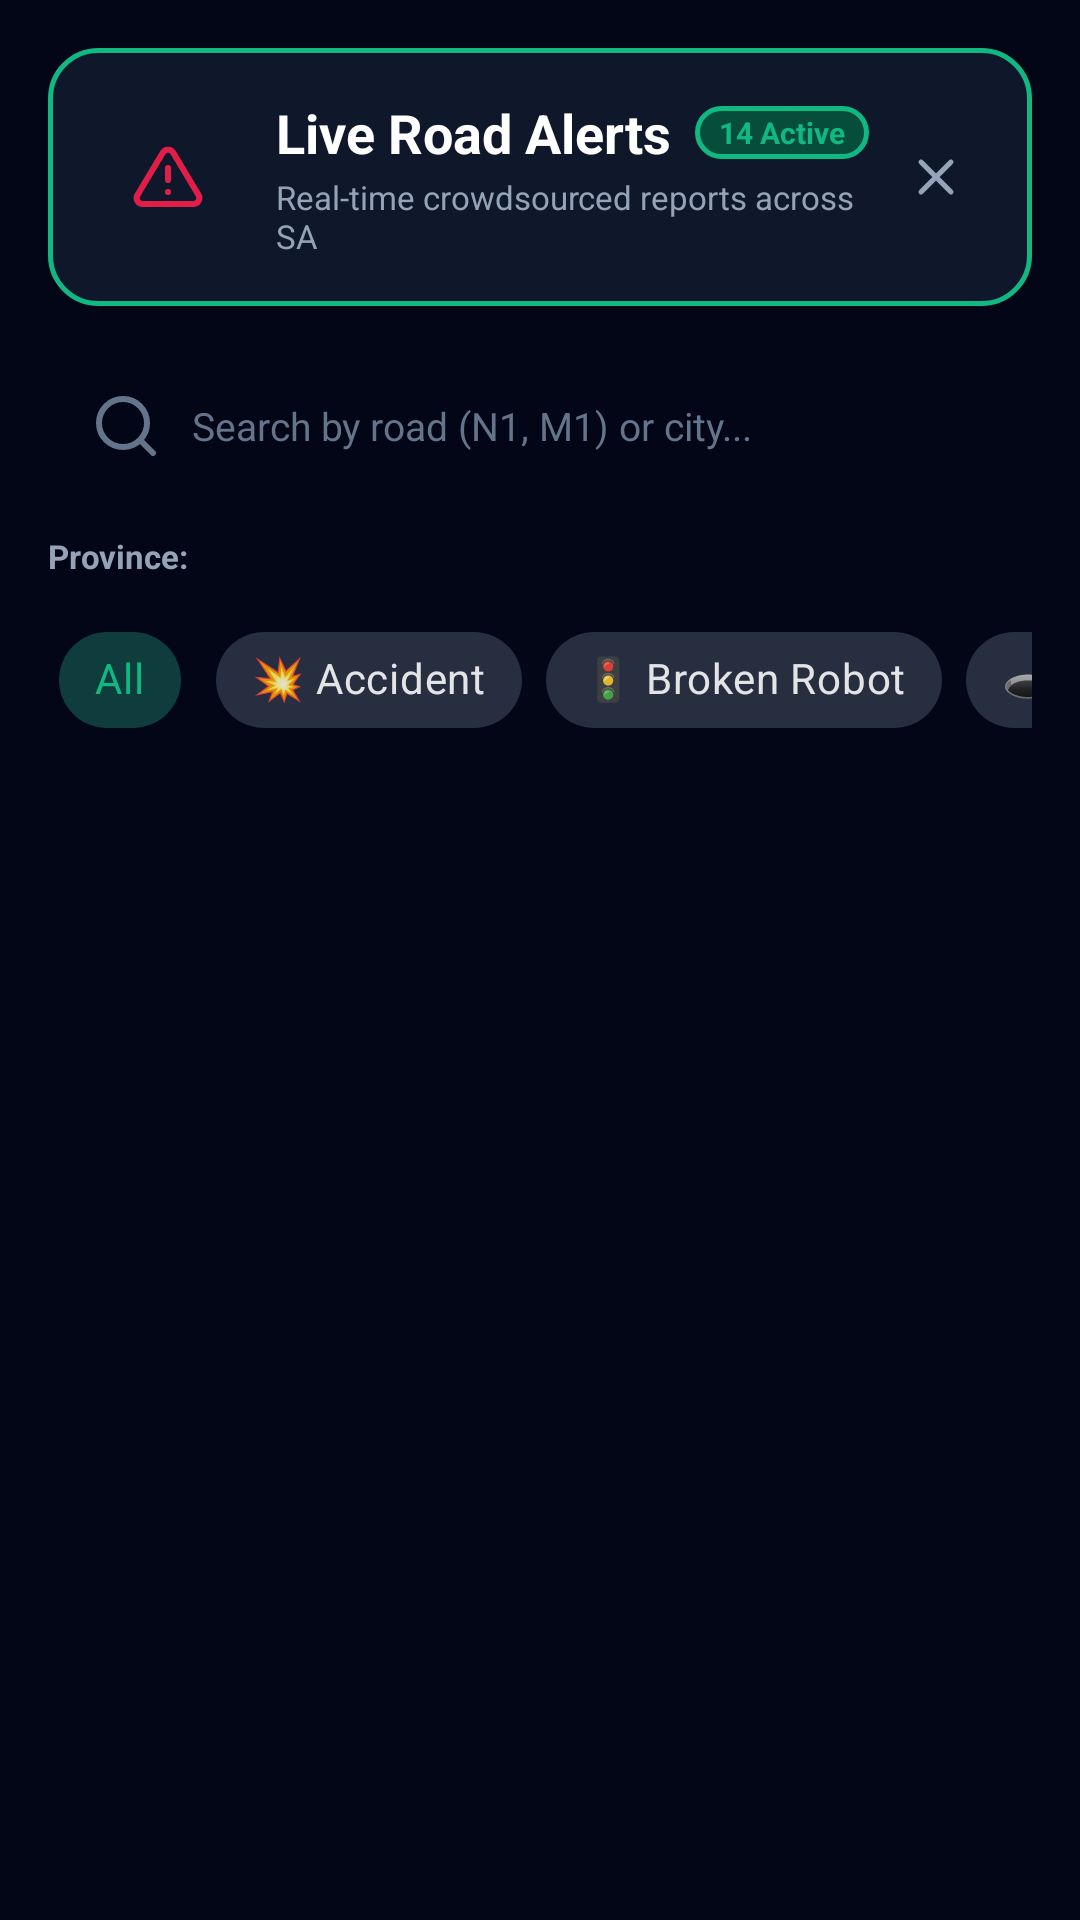

Screen size 1080px×1920px. Icon name, then its box in pixels as (x1, y1, x2, y2):
close: (918, 159, 954, 195)
warning: (133, 146, 203, 207)
